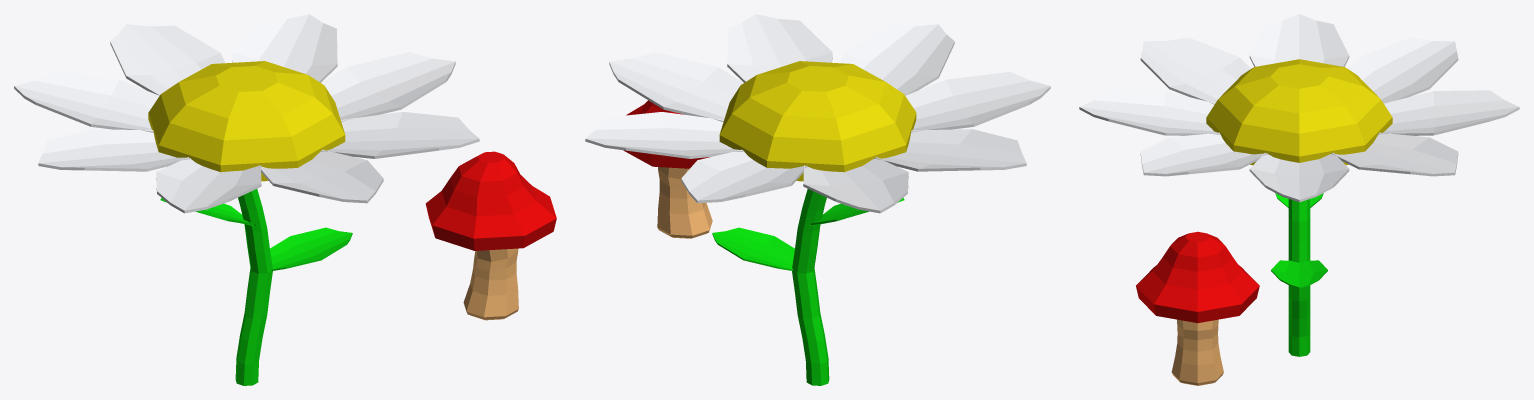
Rendered from flower1.glb.
The picture shows the model from 3 angles, left to right: view 1: azimuth 30°, elevation 25°; view 2: azimuth 150°, elevation 25°; view 3: azimuth 270°, elevation 25°; orthographic projection. The views are drawn at different scales.
Visible parts, largest first — view 1: Circle.013, Circle.011; view 2: Circle.013, Circle.011; view 3: Circle.013, Circle.011.
Boxes of the visible parts, bbox=[...] form: Circle.013: bbox=[14, 14, 479, 385]; Circle.011: bbox=[425, 151, 556, 320]; Circle.013: bbox=[585, 14, 1050, 385]; Circle.011: bbox=[623, 100, 712, 238]; Circle.013: bbox=[1079, 14, 1519, 356]; Circle.011: bbox=[1136, 231, 1259, 385].
Size of the model in its own units: 0.3522 by 0.223 by 0.3223.
